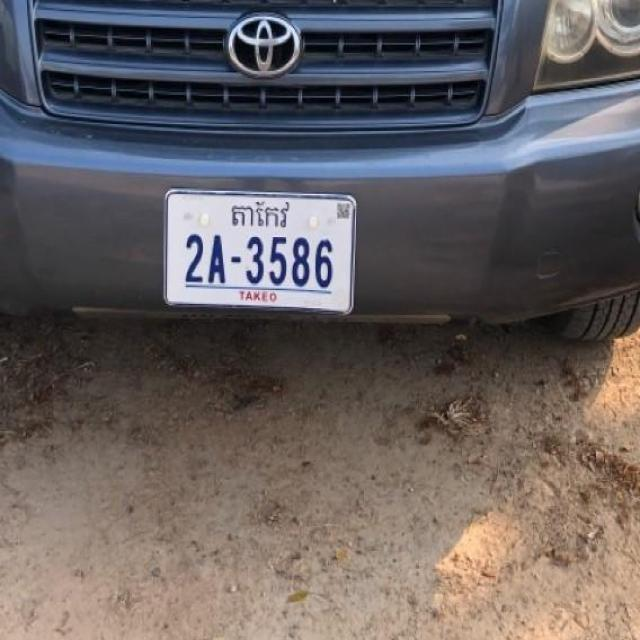Takeo: (231, 201, 290, 230)
